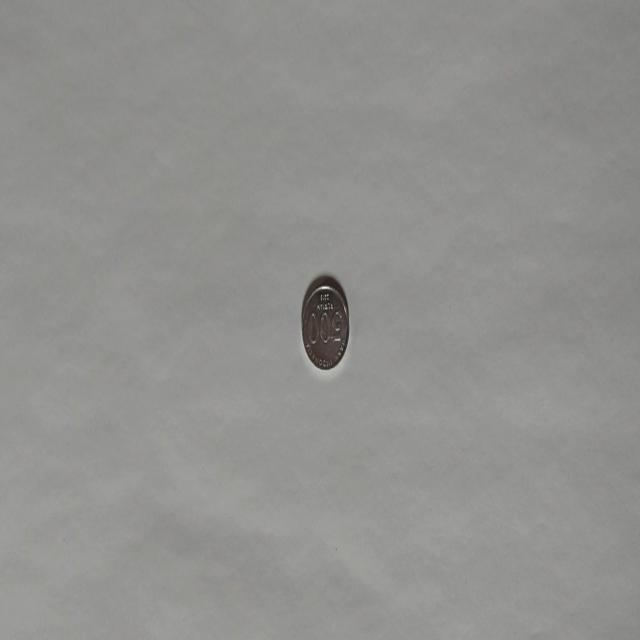lima ratus rupiah: (300, 274, 350, 371)
